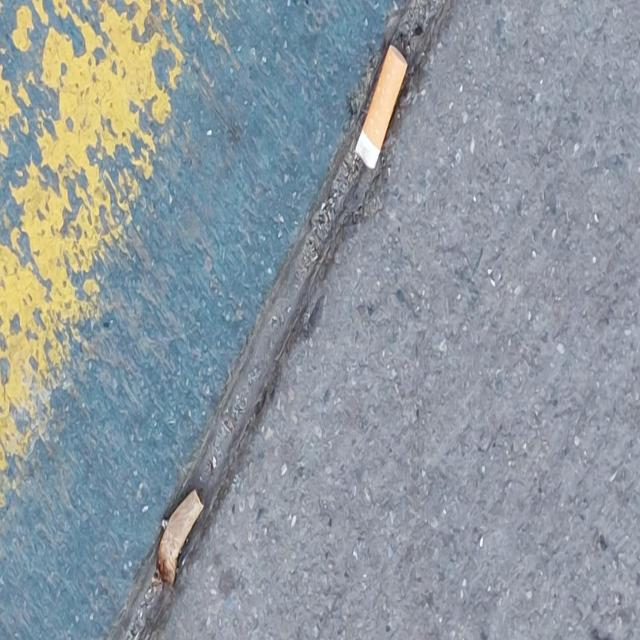other waste: (354, 42, 408, 171), (153, 486, 204, 588)
